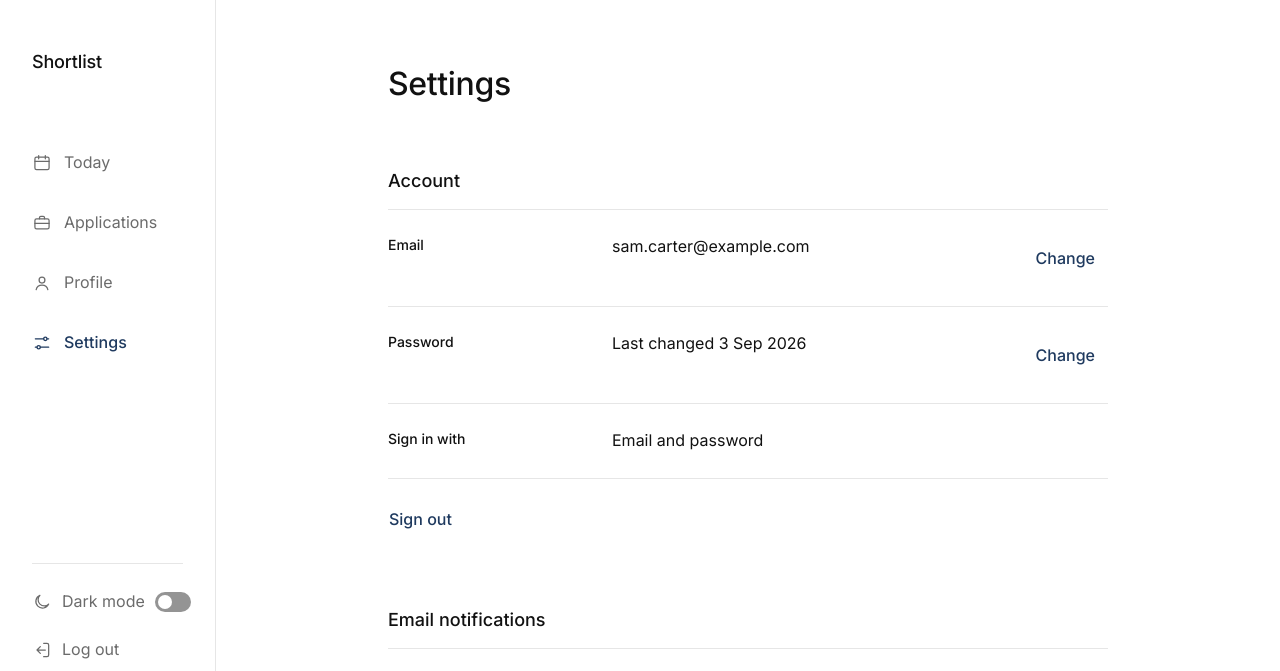
it: settings › offers seven matches-per-day options and sends a password link
Check: the text "Last changed 3 Sep 2026" is shown, box [612,333,806,353]
Check: the text "Email and password" is shown, box [612,430,763,450]
Click the button with aria-label "Change password" at (1065, 355), box [1023,331,1108,379]
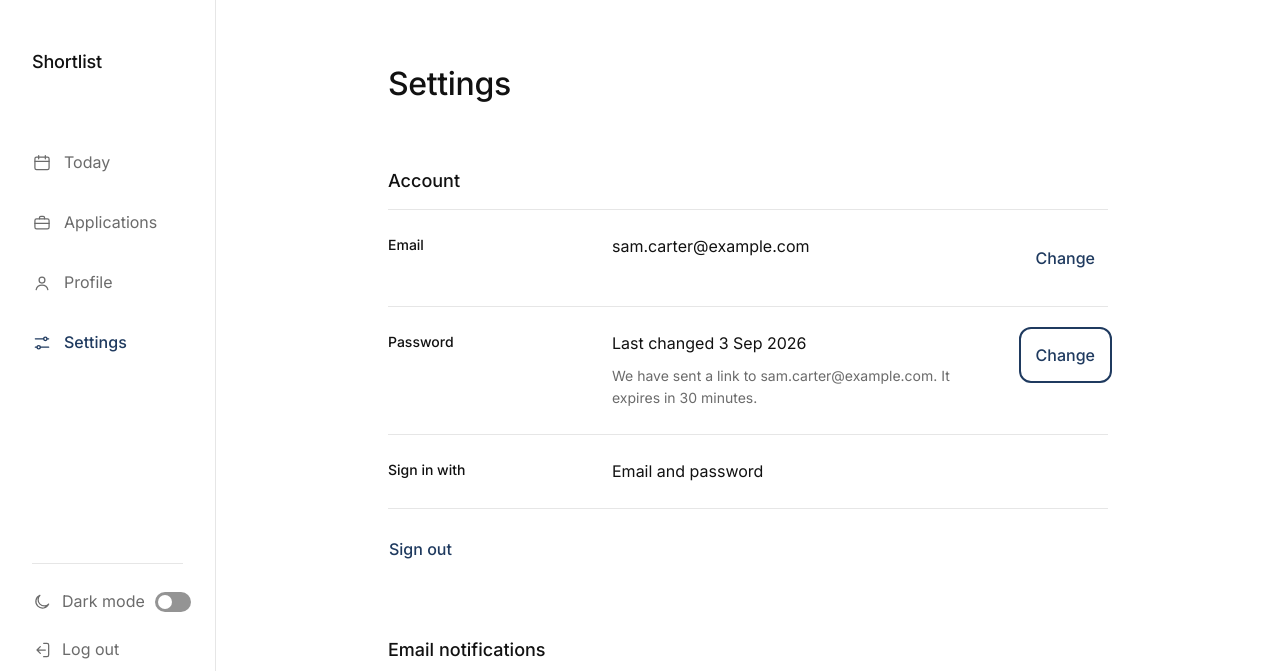
Check: the text "We have sent a link to sam.carter@example.com. It expires in 30 minutes." is shown, box [612,365,999,410]
